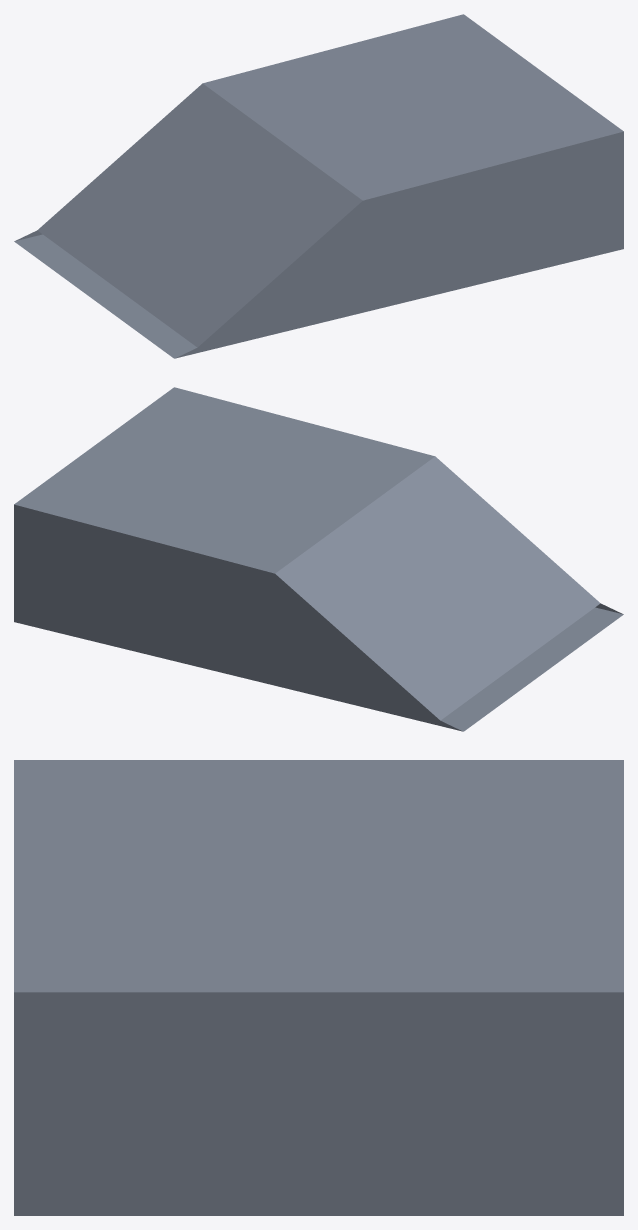
File: rampCollider.fbx
3 renders of one model, top to bottom at view 1: azimuth 30°, elevation 25°; view 2: azimuth 150°, elevation 25°; view 3: azimuth 270°, elevation 25°, orthographic. The views are drawn at different scales.
Visible parts, largest first — view 1: Rampcollider; view 2: Rampcollider; view 3: Rampcollider.
Part boxes in pixels (left/top/right/bottom): Rampcollider: left=14, top=14, right=623, bottom=358; Rampcollider: left=14, top=387, right=623, bottom=731; Rampcollider: left=14, top=760, right=623, bottom=1215.
Bounding box in the file's own units: 1962 × 490 × 1211.
